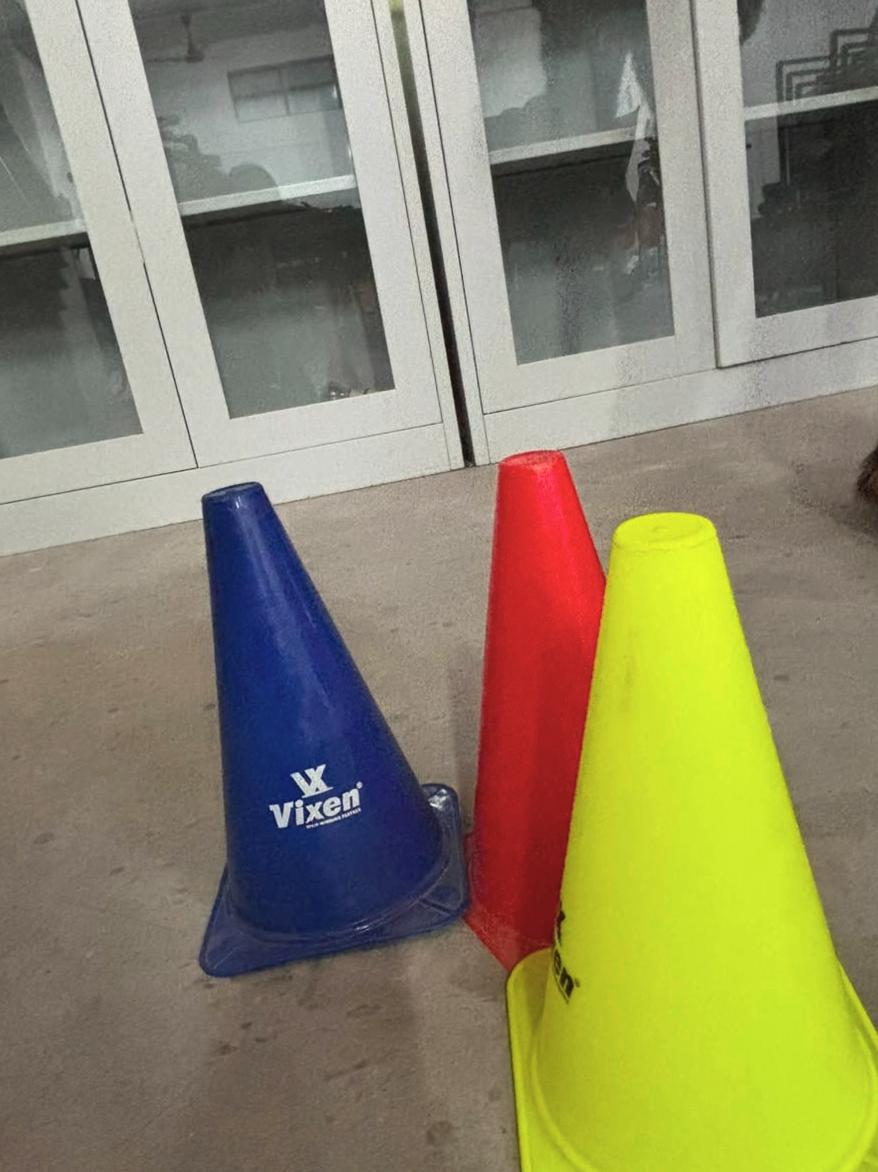0 cone: (467, 452, 878, 1172)
